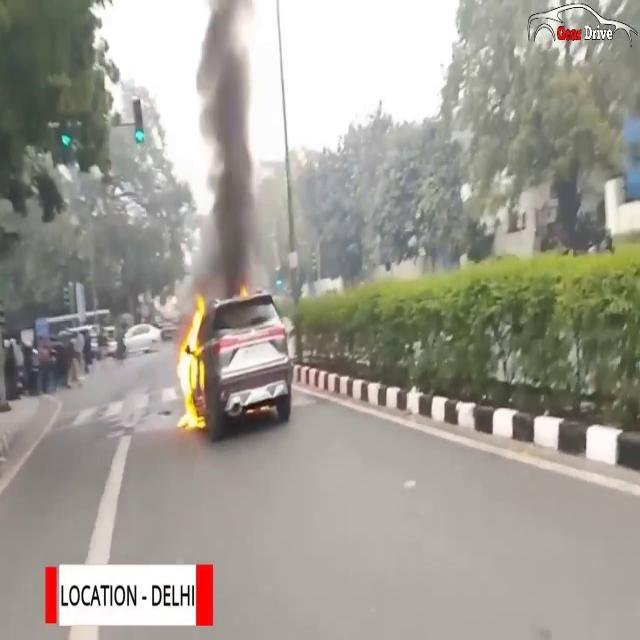Fire: (175, 296, 209, 426), (235, 280, 255, 304)
Smoke: (180, 0, 272, 297)
